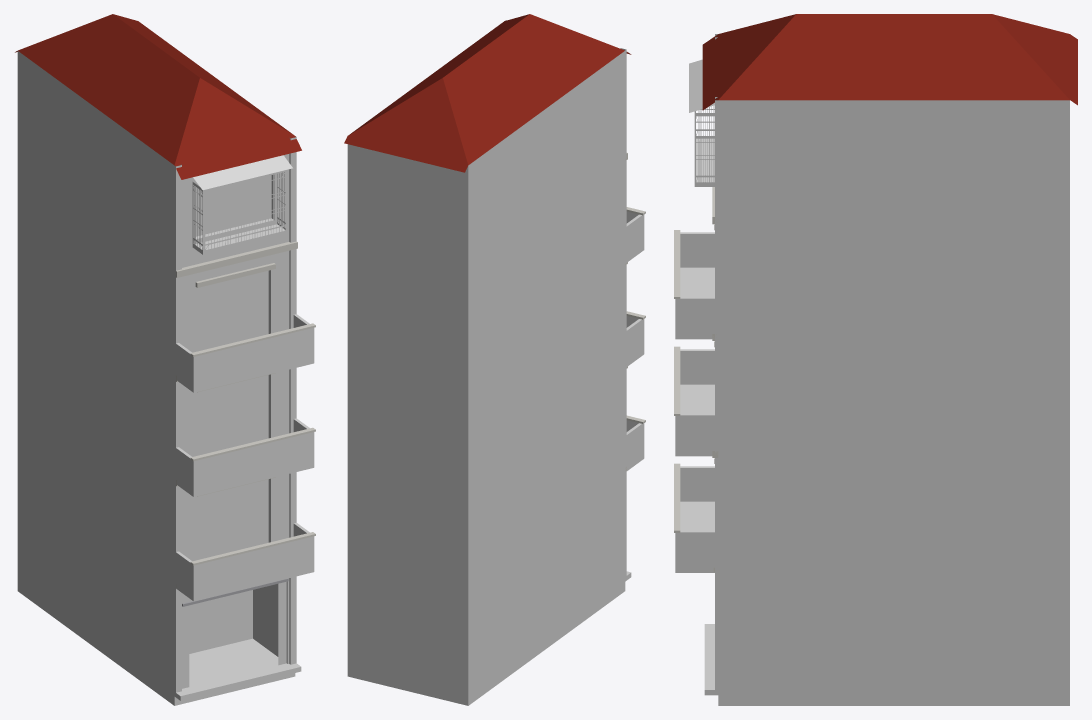
3 views of the same model, side by side, from view 1: azimuth 30°, elevation 25°; view 2: azimuth 150°, elevation 25°; view 3: azimuth 270°, elevation 25° (orthographic). The views are drawn at different scales.
Parts seen in each view (by area): view 1: TH_D09_C_08_LOD0; view 2: TH_D09_C_08_LOD0; view 3: TH_D09_C_08_LOD0.
Part boxes in pixels (x1,y1,x2,y2): TH_D09_C_08_LOD0: [15, 14, 315, 705]; TH_D09_C_08_LOD0: [344, 14, 645, 705]; TH_D09_C_08_LOD0: [674, 14, 1077, 705].
Size of what is drawn, in the model's own units: 4.06 by 18.6 by 10.33.
